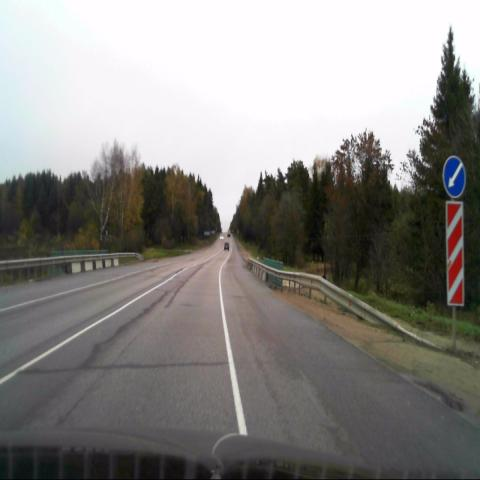4_2_2: (442, 156, 467, 198)
